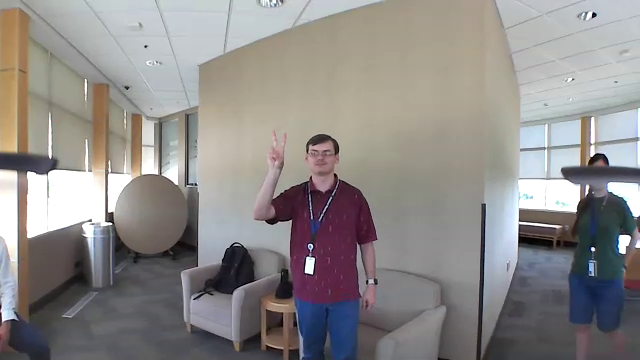peace: (262, 126, 291, 172)
